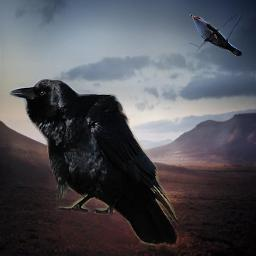Crow: (9, 78, 182, 248)
Cuckoo: (189, 14, 242, 56)
